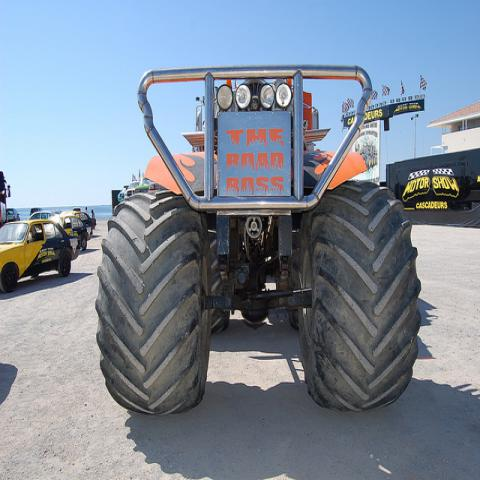car: (0, 218, 72, 290), (48, 214, 88, 250), (71, 208, 97, 237), (28, 210, 56, 220), (6, 207, 20, 222)
truck: (94, 66, 424, 416)
